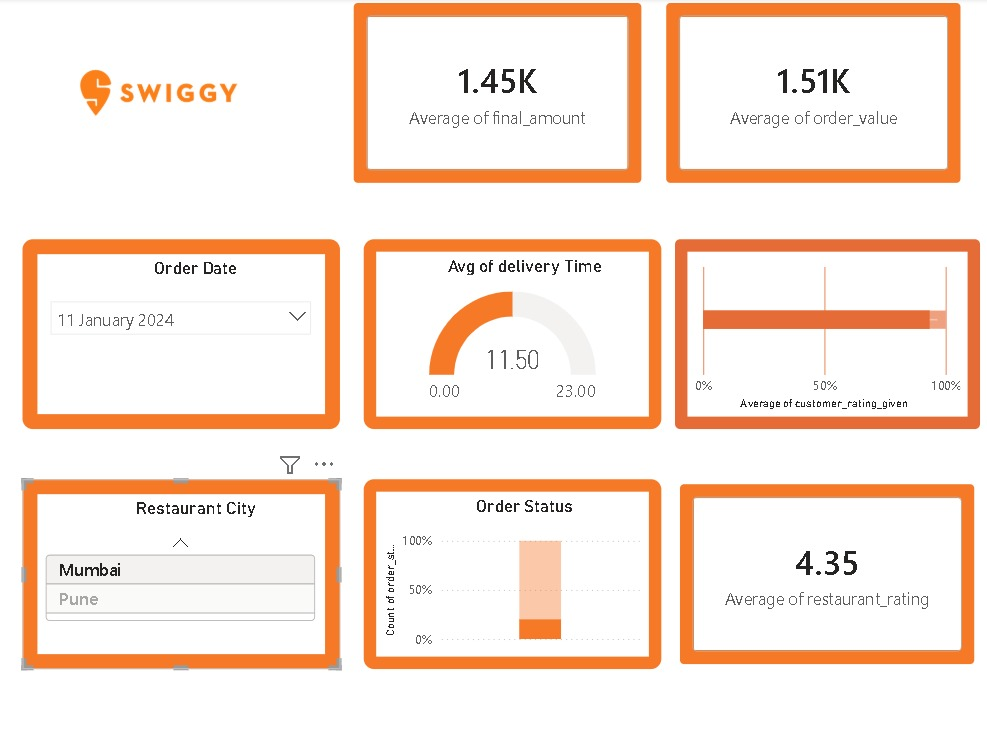

Layout of this report page (visuals, bound fields, positions):
{"tool":"powerbi","page":{"name":"Page 1","canvas":[960,720],"ordinal":0},"visuals":[{"type":"image","box":[0,0,306.4,183.4],"z":0},{"type":"cardVisual","fields":{"Data":["Avg(Sheet1 (2).final_amount)"]},"box":[336.6,0,287.1,183.4],"z":1000},{"type":"cardVisual","fields":{"Data":["Avg(Sheet1 (2).order_value)"]},"box":[638.2,0,294.4,183.4],"z":2000},{"type":"slicer","title":"Order Date","fields":{"Values":["Sheet1 (2).order_date"]},"box":[21.7,232.8,306,183],"z":3000},{"type":"cardVisual","title":"Restaurant City","fields":{"Rows":["Sheet1 (2).restaurant_city"]},"box":[21.7,464.5,306,183],"z":4000},{"type":"hundredPercentStackedColumnChart","title":"Order Status","fields":{"Y":["CountNonNull(Sheet1 (2).order_status)"]},"box":[351.1,464.5,287,183],"z":5000},{"type":"gauge","title":"Avg of delivery Time","fields":{"Y":["Avg(Sheet1 (2).delivery_travel_time_mins)"]},"box":[351.1,232.8,287,183],"z":6000},{"type":"cardVisual","fields":{"Data":["Avg(Sheet1 (2).restaurant_rating)"]},"box":[651.5,464.5,294.4,183.4],"z":7000},{"type":"hundredPercentStackedBarChart","fields":{"Y":["Avg(Sheet1 (2).customer_rating_given)"]},"box":[651.5,232.8,294,183],"z":8000}]}

Visuals, with their boxes in screenshot pixels (x1, y1, x2, y2), scaled from the page's 960x720 canvas onto the 987x732 screenshot:
image: region(0, 0, 315, 186)
cardVisual - Avg(Sheet1 (2).final_amount): region(346, 0, 641, 186)
cardVisual - Avg(Sheet1 (2).order_value): region(656, 0, 959, 186)
"Order Date" slicer: region(22, 237, 337, 423)
"Restaurant City" cardVisual: region(22, 472, 337, 658)
"Order Status" hundredPercentStackedColumnChart: region(361, 472, 656, 658)
"Avg of delivery Time" gauge: region(361, 237, 656, 423)
cardVisual - Avg(Sheet1 (2).restaurant_rating): region(670, 472, 973, 659)
hundredPercentStackedBarChart - Avg(Sheet1 (2).customer_rating_given): region(670, 237, 972, 423)
